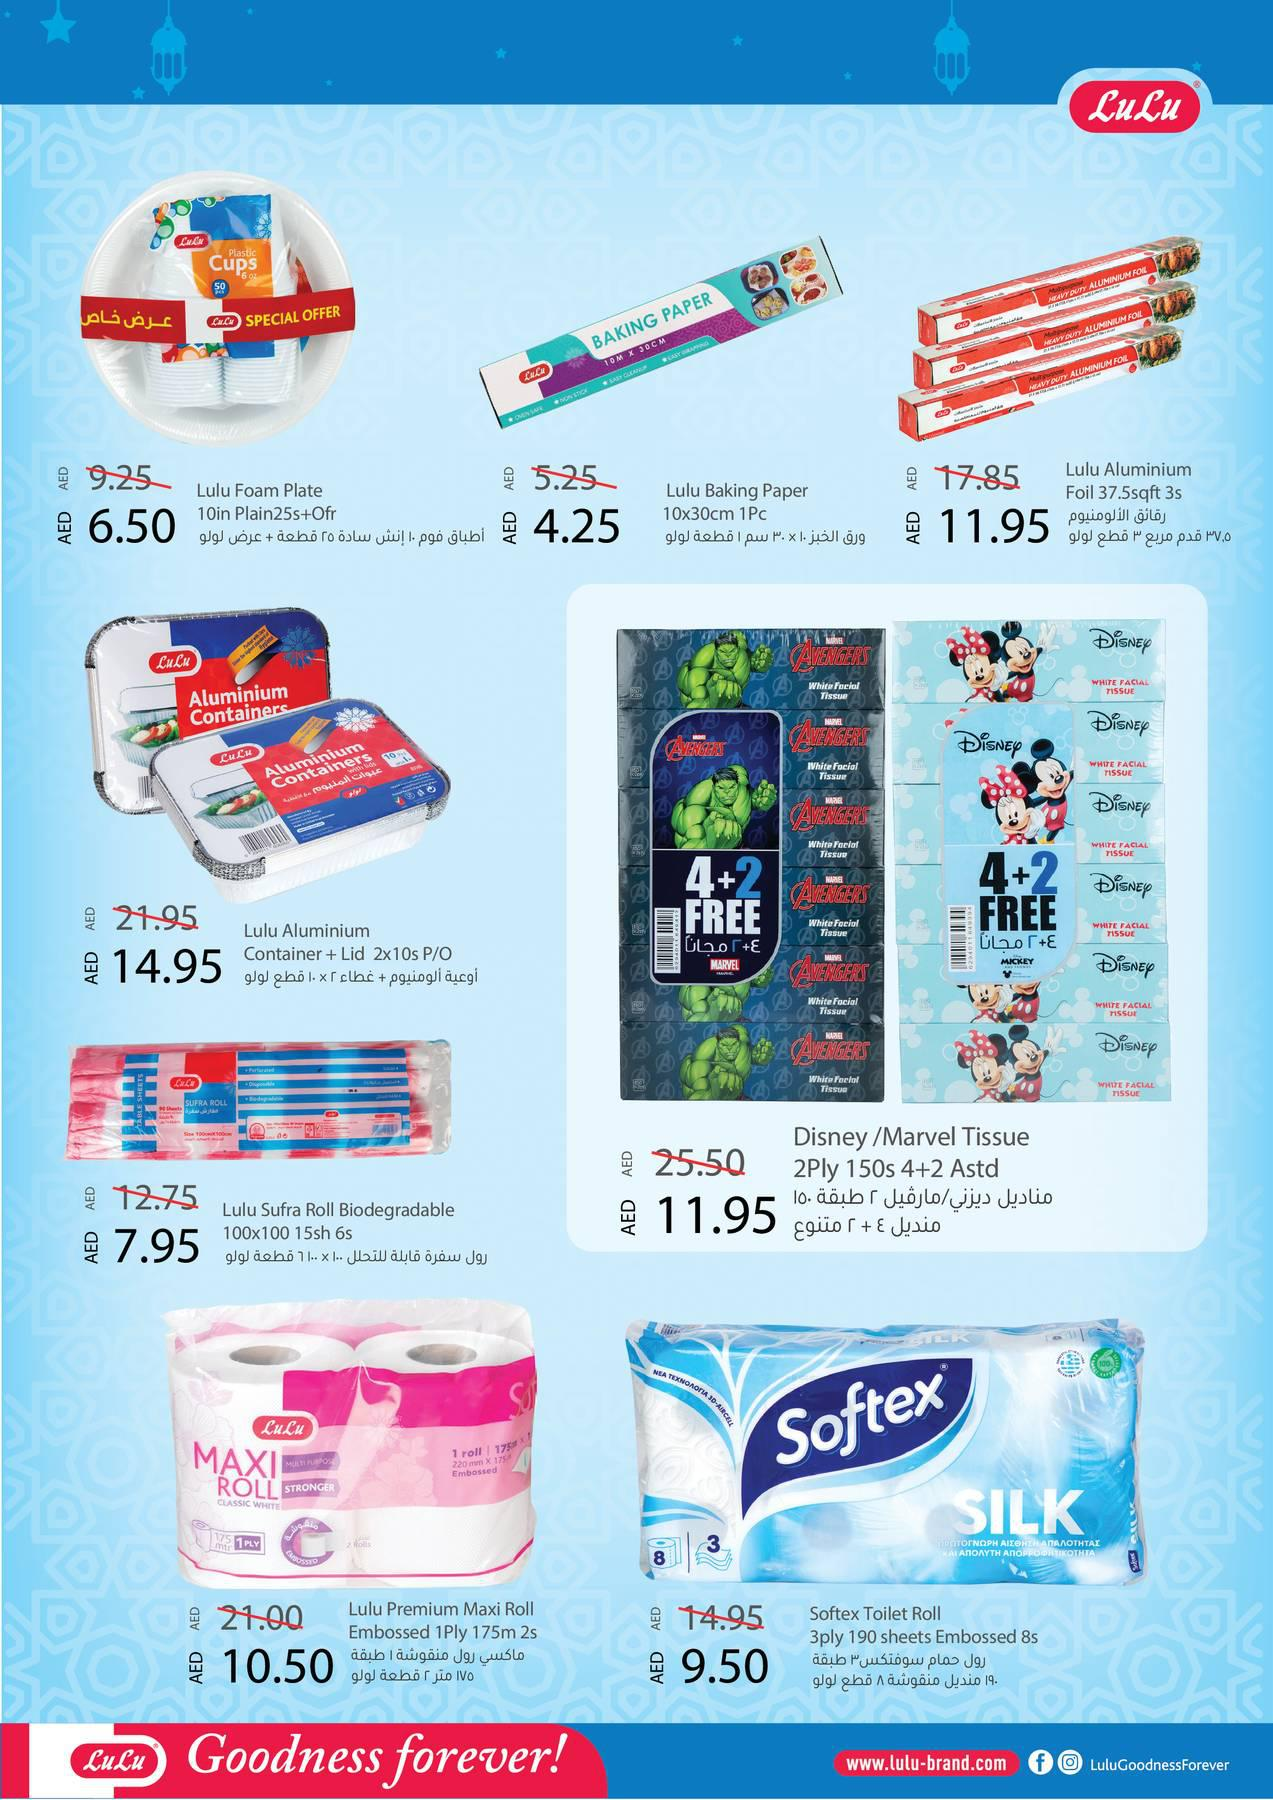text: (778, 1114, 1070, 1250), (190, 442, 495, 554), (785, 1593, 1053, 1706), (209, 1186, 515, 1278), (225, 913, 515, 1009), (652, 461, 889, 558), (1059, 439, 1252, 556), (342, 1591, 547, 1694)
